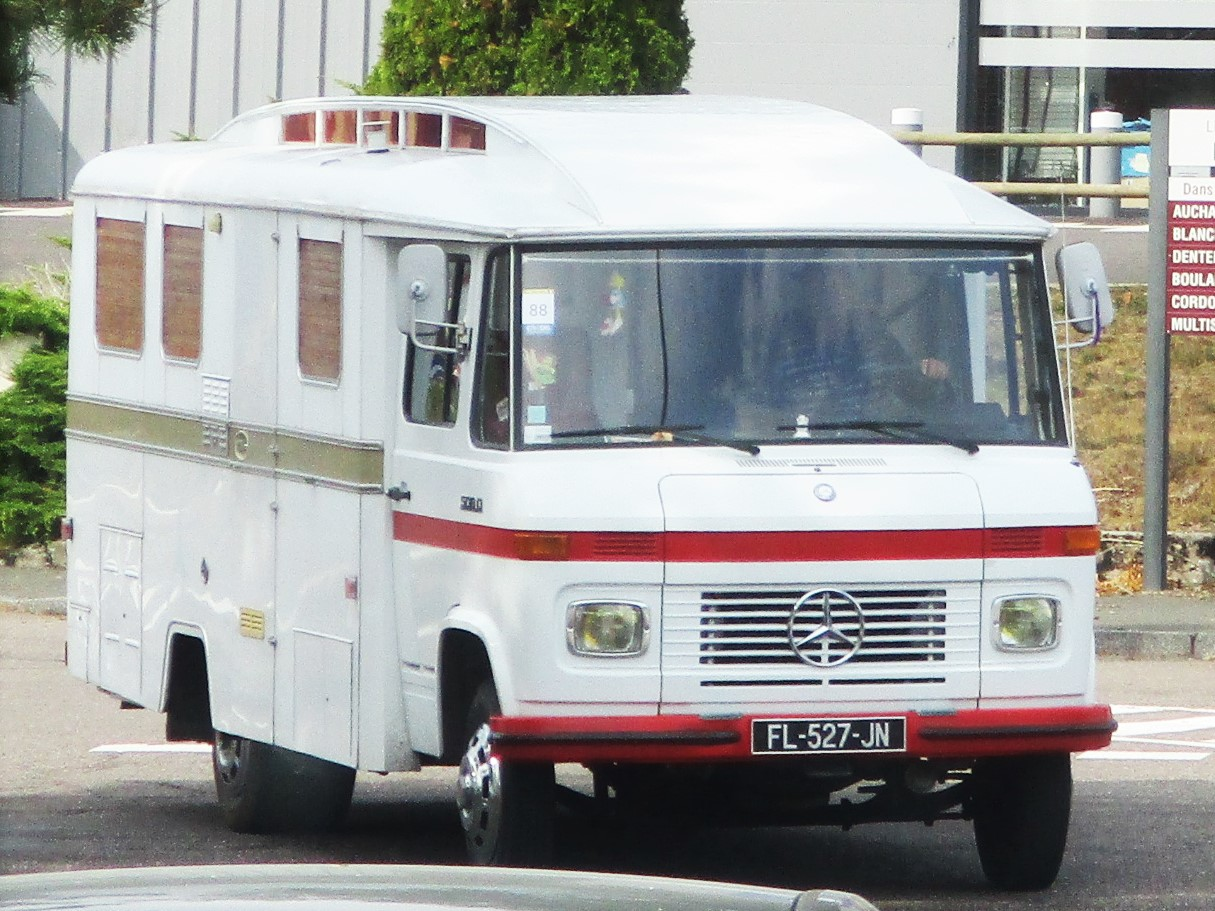licence plate: (749, 712, 912, 757)
